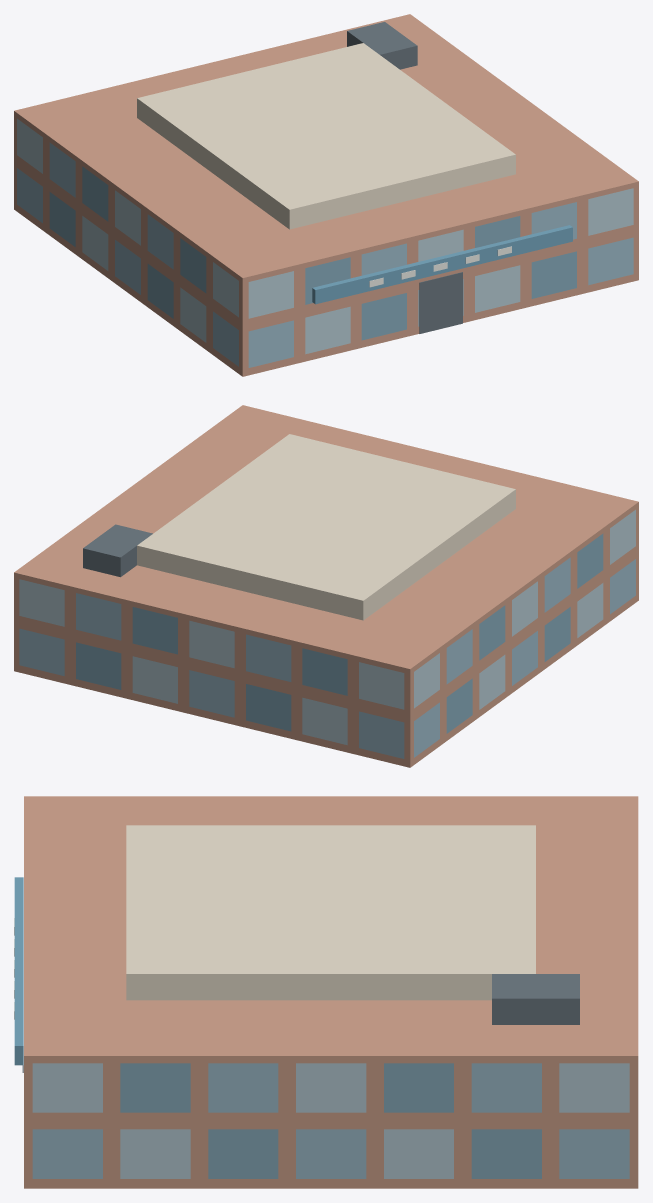
The model's file is korea-building-4-compact.glb.
3 views of the same model, one above another, from view 1: azimuth 30°, elevation 25°; view 2: azimuth 150°, elevation 25°; view 3: azimuth 270°, elevation 25° (orthographic). The views are drawn at different scales.
Bounding box in the file's own units: 10.52 × 3 × 10.68.
